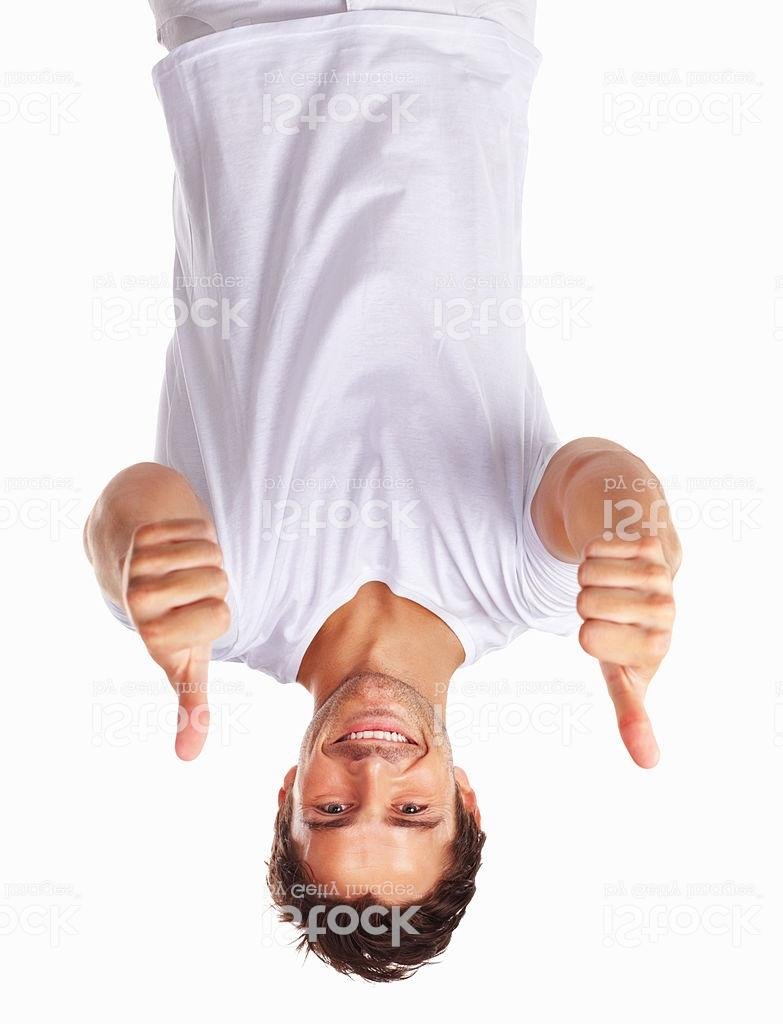thumbsdown: (125, 516, 231, 763), (576, 534, 676, 771)
